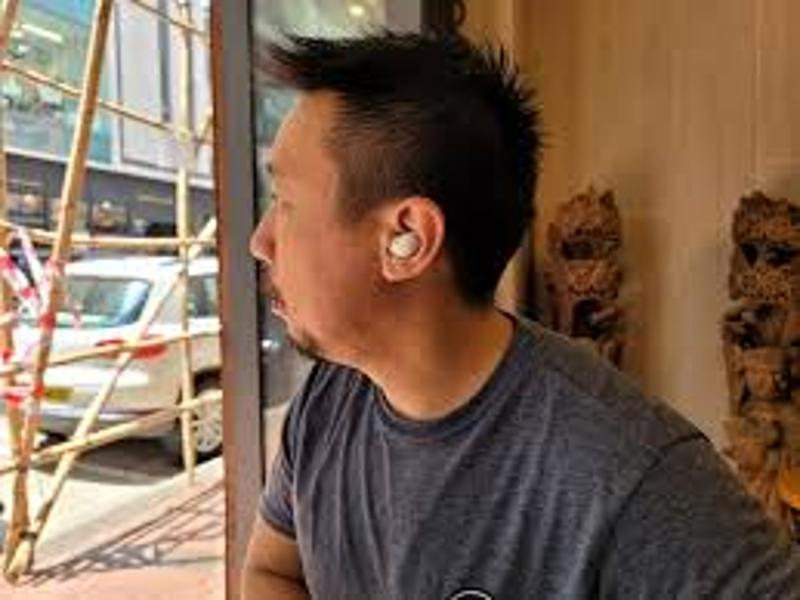headphone: (388, 230, 423, 258)
